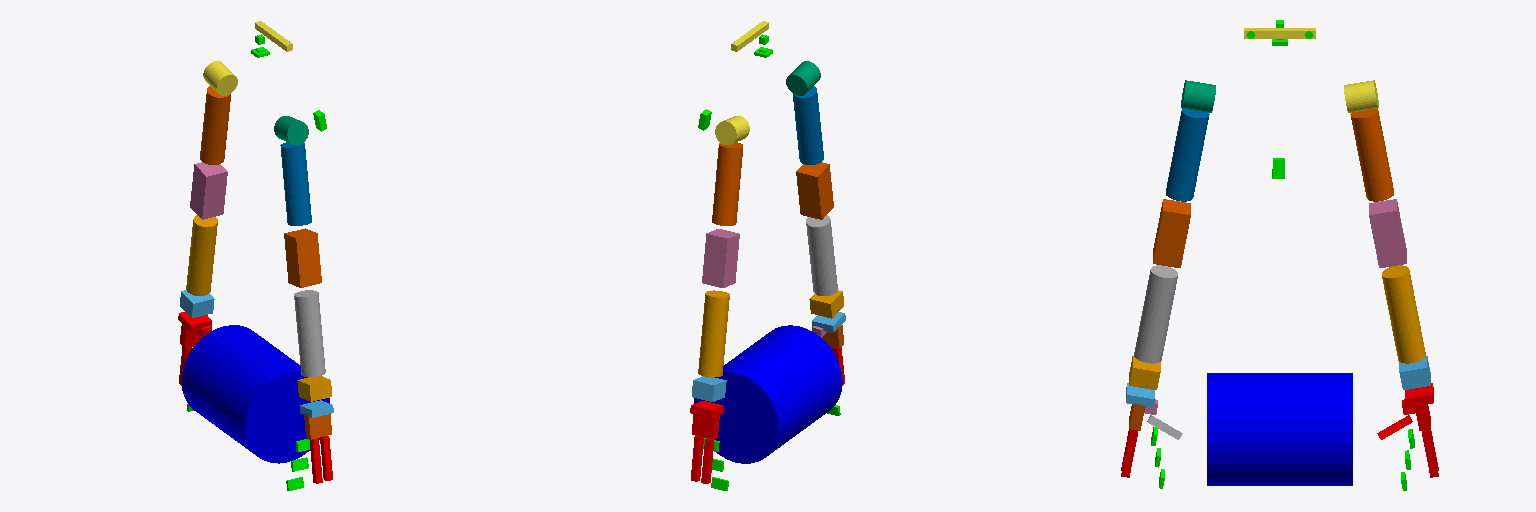
--- Render facts (derived) ---
The picture shows the robot from 3 angles, left to right: view 1: azimuth 30°, elevation 25°; view 2: azimuth 150°, elevation 25°; view 3: azimuth 270°, elevation 25°; orthographic projection.
Model flintrobot with 51 links and 50 joints (19 revolute, 2 prismatic, 29 fixed), rooted at base_link, posed every joint at zero.
Visible links, largest first — view 1: base_link, right_forearm, right_posterior_arm, left_forearm, right_elbow, left_posterior_arm, left_elbow, left_shoulder, right_shoulder, right_forearm_b, left_forearm_b, right_hand; view 2: base_link, left_forearm, left_posterior_arm, right_forearm, left_elbow, right_posterior_arm, right_elbow, right_shoulder, left_shoulder, left_forearm_b, right_forearm_b, left_hand; view 3: base_link, right_forearm, left_forearm, right_posterior_arm, left_posterior_arm, right_elbow, left_elbow, right_shoulder, left_shoulder, right_forearm_b, left_forearm_b, camera_base.
Link boxes in pixels (x1,y1,x2,y2): base_link: (181, 325, 329, 463); right_forearm: (294, 290, 325, 376); right_posterior_arm: (280, 142, 311, 225); left_forearm: (186, 215, 217, 295); right_elbow: (284, 228, 321, 287); left_posterior_arm: (200, 86, 230, 164); left_elbow: (190, 162, 227, 219); left_shoulder: (203, 61, 237, 95); right_shoulder: (274, 116, 308, 144); right_forearm_b: (297, 376, 331, 401); left_forearm_b: (180, 290, 214, 317); right_hand: (304, 414, 331, 439); base_link: (694, 325, 842, 463); left_forearm: (698, 290, 729, 377); left_posterior_arm: (712, 142, 742, 225); right_forearm: (806, 215, 837, 295); left_elbow: (702, 229, 739, 287); right_posterior_arm: (793, 86, 823, 164); right_elbow: (796, 162, 833, 219); right_shoulder: (786, 61, 820, 95); left_shoulder: (715, 116, 749, 144); left_forearm_b: (692, 376, 726, 401); right_forearm_b: (809, 290, 843, 318); left_hand: (692, 414, 719, 439); base_link: (1207, 373, 1352, 485); right_forearm: (1134, 265, 1177, 363); left_forearm: (1382, 265, 1425, 363); right_posterior_arm: (1166, 108, 1209, 201); left_posterior_arm: (1350, 108, 1393, 201); right_elbow: (1153, 199, 1190, 267); left_elbow: (1369, 199, 1406, 267); right_shoulder: (1181, 80, 1215, 112); left_shoulder: (1344, 80, 1378, 112); right_forearm_b: (1129, 356, 1160, 389); left_forearm_b: (1399, 356, 1430, 389); camera_base: (1244, 28, 1315, 38).
Bounding box of the posed robot: 0.3625 × 0.7817 × 1.28 m (x, y, z).
Geometry: primitives only (box / cylinder / sphere), no mesh files.

The robot description file, URDF, robot "flintrobot":
<?xml version="1.0"?>
<robot name="flintrobot"> 
  <link name="base_link">
    <visual>
      <geometry>
        <cylinder length="0.36" radius="0.14"/>
      </geometry>
      <material name="blue">
        <color rgba="0.0 0.0 1.0 0.5"/>
      </material>
      <origin rpy="1.57075 0 0" xyz="0 0 0.12"/>
    </visual>
    <collision>
      <geometry>
        <cylinder length="0.36" radius="0.14"/>
      </geometry>
      <origin rpy="1.57075 0 0" xyz="0 0 0.15"/>
    </collision>
  </link>      

  <link name="body_link">
    <!-- <visual>
      <geometry>
        <cylinder length="0.95" radius="0.15"/>
      </geometry>
      <material name="blue">
        <color rgba="0.0 0.0 1.0 0.5"/>
      </material>
      <origin rpy="0 0 0" xyz="0 0 0.625"/>
    </visual> -->
    <collision>
      <geometry>
        <cylinder length="0.95" radius="0.15"/>
      </geometry>
      <origin rpy="0 0 0" xyz="0 0 0.625"/>
    </collision>
  </link>

  <link name="imu_link">
    <visual>
      <geometry>
        <box size="0.03 0.02 0.002"/>
      </geometry>
      <material name="green">
        <color rgba="0.0 1.0 0.0 1.0"/>
      </material>
      <origin rpy="0 0 1.5708" xyz="0 0 0"/>
    </visual>
  </link>

  <joint name="robot_roll_angle" type="fixed">
    <axis xyz="0 1 0"/>
    <origin xyz="0 0 0.12"/>
    <parent link="base_link"/>
    <child link="body_link"/>
    <limit effort="1000" lower="-0.2618" upper="0.2618" velocity="1.0"/>
  </joint>

  <joint name="imu_to_body" type="fixed">
    <axis xyz="1 0 0"/>
    <origin xyz="0 0 0.06"/>
    <parent link="body_link"/>
    <child link="imu_link"/>
  </joint>

  <link name="rslidar">
    <visual>
      <geometry>
        <box size="0.02 0.03 0.05"/>
      </geometry>
      <material name="green">
        <color rgba="0.0 1.0 0.0 1.0"/>
      </material>
      <origin rpy="0 0 0" xyz="0 0 0"/>
    </visual>
  </link>

  <!-- <joint name="laser_to_body" type="fixed">
    <origin xyz="0.15475 0 0.67791"/>
    <parent link="body_link"/>
    <child link="laser_link"/>
  </joint> -->

  <link name="head_base_root"/>

  <joint name="head_base_root_joint" type="fixed">
    <origin rpy="0 0 0" xyz="0.01385 0 1.064"/>
    <parent link="body_link"/>
    <child link="head_base_root"/>
  </joint>

  <link name="head_base_raise_joint_x"/>

  <joint name="head_base_raise_joint_x" type="prismatic">
    <origin rpy="0 0 0" xyz="0 0 0"/>
    <axis xyz="1 0 0"/>
    <limit effort="1000" lower="0.0" upper="0.07044" velocity="0.1"/>
    <parent link="head_base_root"/>
    <child link="head_base_raise_joint_x"/>
  </joint>

  <link name="head_base_raise_joint_z"/>

  <joint name="head_base_raise_joint_z" type="prismatic">
    <origin rpy="0 0 0" xyz="0 0 0"/>
    <axis xyz="0 0 1"/>
    <limit effort="1000" lower="0.0" upper="0.03792" velocity="0.1"/>
    <parent link="head_base_raise_joint_x"/>
    <child link="head_base_raise_joint_z"/>
  </joint>

  <link name="head_base_raise_joint_pitch">
    <visual>
      <geometry>
        <box size="0.04 0.04 0.01"/>
      </geometry>
      <material name="green">
        <color rgba="0.0 1.0 0.0 1.0"/>
      </material>
      <origin rpy="0 0 0" xyz="0 0 0"/>
    </visual>
  </link>

  <joint name="head_base_raise_joint_pitch" type="revolute">
    <origin rpy="0 0 0" xyz="0 0 0"/>
    <axis xyz="0 1 0"/>
    <limit effort="1000" lower="0.0" upper="0.449946" velocity="0.1"/>
    <parent link="head_base_raise_joint_z"/>
    <child link="head_base_raise_joint_pitch"/>
  </joint>

  <link name="head_joint_1">
    <visual>
      <geometry>
        <box size="0.02 0.02 0.02"/>
      </geometry>
      <material name="green">
        <color rgba="0.0 1.0 0.0 1.0"/>
      </material>
      <origin rpy="0 0 0" xyz="0 0 0"/>
    </visual>
  </link>

  <joint name="head_joint_1" type="revolute">
    <origin rpy="0 0 0" xyz="0 0 0"/>
    <axis xyz="0 0 1"/>
    <limit effort="1000" lower="-0.7854" upper="0.7854" velocity="0.1"/>
    <parent link="head_base_raise_joint_pitch"/>
    <child link="head_joint_1"/>
  </joint>

  <link name="head_joint_2">
    <visual>
      <geometry>
        <box size="0.02 0.02 0.02"/>
      </geometry>
      <material name="green">
        <color rgba="0.0 1.0 0.0 1.0"/>
      </material>
      <origin rpy="0 0 0" xyz="0 0 0"/>
    </visual>
  </link>

  <joint name="head_joint_2" type="revolute">
    <origin rpy="0 0 0" xyz="0 0 0.04"/>
    <axis xyz="0 1 0"/>
    <limit effort="1000" lower="-0.3491" upper="0.00854" velocity="0.1"/>
    <parent link="head_joint_1"/>
    <child link="head_joint_2"/>
  </joint>

  <joint name="head_joint_3" type="revolute">
    <origin rpy="0 0 0" xyz="0.04445 0 0"/>
    <axis xyz="1 0 0"/>
    <limit effort="1000" lower="-0.3491" upper="0.3491" velocity="0.1"/>
    <parent link="head_joint_2"/>
    <child link="camera_base_loc"/>
  </joint>

  <link name="camera_base_loc"/>

  <joint name="head_joint_3b" type="fixed">
    <origin rpy="0 -0.1118756 0" xyz="0 0 0"/>
    <parent link="camera_base_loc"/>
    <child link="camera_base"/>
  </joint>

  <link name="camera_base">
    <visual>
      <geometry>
        <box size="0.02 0.18 0.02"/>
      </geometry>
      <origin rpy="0 0 0" xyz="0 0 0"/>
    </visual>
  </link>

  <link name="left_eye">
    <visual>
      <geometry>
        <cylinder length="0.02" radius="0.01"/>
      </geometry>
      <material name="green">
        <color rgba="0.0 1.0 0.0 1.0"/>
      </material>
      <origin rpy="0 1.5708 0" xyz="0.002 0.0 0.0"/>
    </visual>
  </link>

  <joint name="head_to_left_eye" type="fixed">
    <origin rpy="0 0 0" xyz="0.0 0.07103 0.0"/>
    <parent link="camera_base"/>
    <child link="left_eye"/>
  </joint>

  <link name="left_camera_optical_frame"/>
  <joint name="left_camera_optical_joint" type="fixed">
    <origin rpy="-1.5707963267948966 0.0 -1.5707963267948966" xyz="0 0 0"/>
    <parent link="left_eye"/>
    <child link="left_camera_optical_frame"/>
  </joint>

  <!-- New link to connect left_camera_optical_frame and laser_link -->
  <link name="laser_link_camera_frame"/>

  <joint name="left_camera_to_laser_camera_joint" type="fixed">
    <!-- <origin rpy="-0.0743 -1.5708 1.5708" xyz="0.0744262 0.312105 0.115497"/> -->
    <origin rpy="-3.0673057 -1.4927255 -1.6530373" xyz="0.0744262 0.312105 0.115497"/>
    <parent link="left_camera_optical_frame"/>
    <child link="laser_link_camera_frame"/>
  </joint>

  <!-- Joint connecting laser_link_camera_frame to laser_link -->
  <joint name="laser_camera_to_laser_joint" type="fixed">
    <origin rpy="0 0 0" xyz="0 0 0"/>
    <parent link="laser_link_camera_frame"/>
    <child link="rslidar"/>
  </joint>

  <link name="right_eye">
    <visual>
      <geometry>
        <cylinder length="0.02" radius="0.01"/>
      </geometry>
      <material name="green">
        <color rgba="0.0 1.0 0.0 1.0"/>
      </material>
      <origin rpy="0 1.5708 0" xyz="0.002 0.0 0.0"/>
    </visual>
  </link>

  <joint name="head_to_right_eye" type="fixed">
    <origin rpy="0 0 0" xyz="0.0 -0.07103 0.0"/>
    <parent link="camera_base"/>
    <child link="right_eye"/>
  </joint>

  <link name="right_camera_optical_frame"/>
  <joint name="right_camera_optical_joint" type="fixed">
    <origin rpy="-1.5707963267948966 0.0 -1.5707963267948966" xyz="0 0 0"/>
    <parent link="right_eye"/>
    <child link="right_camera_optical_frame"/>
  </joint>

  <link name="right_shoulder_root"/>

  <joint name="right_shoulder_fixed_angle" type="fixed">
    <origin rpy="-0.17453 0 0" xyz="0 -0.116 0.89"/>
    <parent link="body_link"/>
    <child link="right_shoulder_root"/>
  </joint>

  <link name="right_shoulder">
    <visual>
      <geometry>
        <cylinder length="0.076" radius="0.035"/>
      </geometry>
      <origin rpy="1.57075 0 0" xyz="0 0 0"/>
    </visual>
    <collision>
      <geometry>
        <cylinder length="0.076" radius="0.035"/>
      </geometry>
      <origin rpy="1.57075 0 0" xyz="0 0 0"/>
    </collision>
  </link>

  <joint name="joint0" type="revolute">
    <axis xyz="0 1 0"/>
    <origin xyz="0 -0.086 0"/>
    <parent link="right_shoulder_root"/>
    <child link="right_shoulder"/>
    <limit effort="1000" lower="-3.1415926" upper="3.1415926" velocity="1.0"/>
  </joint>

  <link name="right_posterior_arm_root">
  </link>

  <joint name="joint1" type="revolute">
    <axis xyz="1 0 0"/>
    <origin xyz="0 0 0"/>
    <parent link="right_shoulder"/>
    <child link="right_posterior_arm_root"/>
    <limit effort="1000" lower="-1.5708" upper="0.1745" velocity="1.0"/>
  </joint>

  <link name="right_posterior_arm">
    <visual>
      <geometry>
        <cylinder length="0.23" radius="0.035"/>
      </geometry>
      <origin rpy="0 0 0" xyz="0 0 -0.0725"/>
    </visual>
    <collision>
      <geometry>
        <cylinder length="0.23" radius="0.035"/>
      </geometry>
      <origin rpy="0 0 0" xyz="0 0 -0.0725"/>
    </collision>
  </link>

  <joint name="joint2" type="revolute">
    <axis xyz="0 0 1"/>
    <origin xyz="0 0 -0.085"/>
    <parent link="right_posterior_arm_root"/>
    <child link="right_posterior_arm"/>
    <limit effort="1000" lower="-3.1415926" upper="3.1415926" velocity="1.0"/>
  </joint>

  <link name="right_elbow">
    <visual>
      <geometry>
        <box size="0.07 0.07 0.147"/>
      </geometry>
      <origin rpy="0 0 0" xyz="0 0 -0.0735"/>
    </visual>
    <collision>
      <geometry>
        <box size="0.07 0.07 0.147"/>
      </geometry>
      <origin rpy="0 0 0" xyz="0 0 -0.0735"/>
    </collision>
  </link>

  <joint name="joint3" type="revolute">
    <axis xyz="0 1 0"/>
    <origin xyz="0 0 -0.22"/>
    <parent link="right_posterior_arm"/>
    <child link="right_elbow"/>
    <limit effort="1000" lower="-1.5708" upper="0.0" velocity="1.0"/>
  </joint>

  <link name="right_forearm_root">
  </link>

  <joint name="joint4" type="revolute">
    <axis xyz="0 1 0"/>
    <origin xyz="0 0 -0.147"/>
    <parent link="right_elbow"/>
    <child link="right_forearm_root"/>
    <limit effort="1000" lower="-1.5708" upper="0.0" velocity="1.0"/>
  </joint>

  <link name="right_forearm">
    <visual>
      <geometry>
        <cylinder length="0.236" radius="0.035"/>
      </geometry>
      <origin rpy="0 0 0" xyz="0 0 -0.033"/>
    </visual>
    <collision>
      <geometry>
        <cylinder length="0.236" radius="0.035"/>
      </geometry>
      <origin rpy="0 0 0" xyz="0 0 -0.033"/>
    </collision>
  </link>

  <joint name="joint5" type="revolute">
    <axis xyz="0 0 1"/>
    <origin xyz="0 0 -0.11678"/>
    <parent link="right_forearm_root"/>
    <child link="right_forearm"/>
    <limit effort="1000" lower="-3.1415926" upper="3.1415926" velocity="1.0"/>
  </joint>

  <link name="right_forearm_b">
    <visual>
      <geometry>
        <box size="0.07 0.07 0.05"/>
      </geometry>
      <origin rpy="0 0 0" xyz="0 0 0.005"/>
    </visual>
    <collision>
      <geometry>
        <box size="0.07 0.07 0.05"/>
      </geometry>
      <origin rpy="0 0 0" xyz="0 0 0.005"/>
    </collision>
  </link>

  <joint name="joint6" type="revolute">
    <axis xyz="0 1 0"/>
    <origin xyz="0 0 -0.2"/>
    <parent link="right_forearm"/>
    <child link="right_forearm_b"/>
    <limit effort="1000" lower="-0.5236" upper="0.5236" velocity="1.0"/>
  </joint>

  <link name="right_wrist">
    <visual>
      <geometry>
        <box size="0.07 0.07 0.023"/>
      </geometry>
      <origin rpy="0 0 0" xyz="0 0 -0.0115"/>
    </visual>
    <collision>
      <geometry>
        <box size="0.07 0.07 0.023"/>
      </geometry>
      <origin rpy="0 0 0" xyz="0 0 -0.0115"/>
    </collision>
  </link>

  <joint name="joint7" type="revolute">
    <axis xyz="1 0 0"/>
    <origin xyz="0 0 -0.04472"/>
    <parent link="right_forearm_b"/>
    <child link="right_wrist"/>
    <limit effort="1000" lower="-0.7854" upper="0.7854" velocity="1.0"/>
  </joint>

  <link name="right_grasp_center">
    <visual>
      <geometry>
        <box size="0.03 0.01 0.05"/>
      </geometry>
      <material name="green">
        <color rgba="0.0 1.0 0.0 1.0"/>
      </material>
      <origin rpy="0 0 0" xyz="0 0 0"/>
    </visual>
  </link>

  <joint name="right_wrists_to_grasp_center" type="fixed">
    <parent link="right_wrist"/>
    <child link="right_grasp_center"/>
    <origin rpy="0 1.5708 0" xyz="-0.02 0.055 -0.125"/>
  </joint>

  <link name="right_grasp_prepare_2">
    <visual>
      <geometry>
        <box size="0.03 0.01 0.05"/>
      </geometry>
      <material name="green">
        <color rgba="0.0 1.0 0.0 1.0"/>
      </material>
      <origin rpy="0 0 0" xyz="0 0 0"/>
    </visual>
  </link>

  <joint name="right_grasp_center_to_grasp_prepare_2" type="fixed">
    <parent link="right_grasp_center"/>
    <child link="right_grasp_prepare_2"/>
    <origin rpy="0 0 0" xyz="0.06 0.02 -0.01"/>
  </joint>

  <link name="right_grasp_prepare">
    <visual>
      <geometry>
        <box size="0.03 0.01 0.05"/>
      </geometry>
      <material name="green">
        <color rgba="0.0 1.0 0.0 1.0"/>
      </material>
      <origin rpy="0 0 0" xyz="0 0 0"/>
    </visual>
  </link>

  <joint name="right_grasp_center_to_grasp_prepare" type="fixed">
    <parent link="right_grasp_center"/>
    <child link="right_grasp_prepare"/>
    <origin rpy="0 0 0" xyz="0.12 0.04 -0.02"/>
  </joint>

  <link name="right_hand">
    <visual>
      <geometry>
        <box size="0.07 0.028 0.072"/>
      </geometry>
      <origin rpy="0 0 0" xyz="0 0 -0.055"/>
    </visual>
    <collision>
      <geometry>
        <box size="0.07 0.028 0.072"/>
      </geometry>
      <origin rpy="0 0 0" xyz="0 0 -0.055"/>
    </collision>
  </link>

  <joint name="wrist_to_hand" type="fixed">
    <parent link="right_wrist"/>
    <child link="right_hand"/>
  </joint>

  <link name="right_hand2">
    <visual>
      <geometry>
        <box size="0.03 0.03 0.03"/>
      </geometry>
      <origin rpy="0 -0.087 0" xyz="0.016 0.03 -0.03"/>
    </visual>
    <collision>
      <geometry>
        <box size="0.03 0.03 0.03"/>
      </geometry>
      <origin rpy="0 -0.087 0" xyz="0.016 0.03 -0.03"/>
    </collision>
  </link>

  <joint name="wrist_to_hand2" type="fixed">
    <parent link="right_wrist"/>
    <child link="right_hand2"/>
    <origin rpy="0 0 0" xyz="0 0 0"/>
  </joint>

  <link name="right_finger1">
    <visual>
      <geometry>
        <box size="0.02 0.09 0.02"/>
      </geometry>
      <origin rpy="-0.72558 1.04635 -0.797603" xyz="0.028 0.072 -0.075"/>
    </visual>
    <collision>
      <geometry>
        <box size="0.02 0.09 0.02"/>
      </geometry>
      <origin rpy="-0.72558 1.04635 -0.797603" xyz="0.028 0.072 -0.075"/>
    </collision>
  </link>

  <joint name="wrists_to_finger1" type="fixed">
    <parent link="right_wrist"/>
    <child link="right_finger1"/>
    <origin rpy="0 0 0" xyz="0 0 0"/>
  </joint>

  <link name="right_finger2">
    <visual>
      <geometry>
        <box size="0.02 0.02 0.13"/>
      </geometry>
      <material name="red">
        <color rgba="1.0 0.0 0.0 0.5"/>
      </material>
      <origin rpy="0 0 0" xyz="0.017 0 -0.16"/>
    </visual>
    <collision>
      <geometry>
        <box size="0.02 0.02 0.13"/>
      </geometry>
      <origin rpy="0 0 0" xyz="0.017 0 -0.16"/>
    </collision>
  </link>

  <joint name="wrists_to_finger2" type="fixed">
    <parent link="right_wrist"/>
    <child link="right_finger2"/>
    <origin rpy="0 0 0" xyz="0 0 0"/>
  </joint>

  <link name="right_finger3">
    <visual>
      <geometry>
        <box size="0.02 0.02 0.13"/>
      </geometry>
      <material name="red">
        <color rgba="1.0 0.0 0.0 0.5"/>
      </material>
      <origin rpy="0 0 0" xyz="-0.017 0 -0.16"/>
    </visual>
    <collision>
      <geometry>
        <box size="0.02 0.02 0.13"/>
      </geometry>
      <origin rpy="0 0 0" xyz="-0.017 0 -0.16"/>
    </collision>
  </link>

  <joint name="wrists_to_finger3" type="fixed">
    <parent link="right_wrist"/>
    <child link="right_finger3"/>
    <origin rpy="0 0 0" xyz="0 0 0"/>
  </joint>

  <link name="left_shoulder_root">
  </link>

  <joint name="left_shoulder_fixed_angle" type="fixed">
    <origin rpy="0.17453 0 0" xyz="0 0.116 0.89"/>
    <parent link="body_link"/>
    <child link="left_shoulder_root"/>
  </joint>

  <link name="left_shoulder">
    <visual>
      <geometry>
        <cylinder length="0.076" radius="0.035"/>
      </geometry>
      <origin rpy="1.57075 0 0" xyz="0 0 0"/>
    </visual>
    <collision>
      <geometry>
        <cylinder length="0.076" radius="0.035"/>
      </geometry>
      <origin rpy="1.57075 0 0" xyz="0 0 0"/>
    </collision>
  </link>

  <joint name="joint0b" type="revolute">
    <axis xyz="0 1 0"/>
    <origin xyz="0 0.086 0"/>
    <parent link="left_shoulder_root"/>
    <child link="left_shoulder"/>
    <limit effort="1000" lower="-3.1415926" upper="3.1415926" velocity="1.0"/>
  </joint>

  <link name="left_posterior_arm_root">
  </link>

  <joint name="joint1b" type="revolute">
    <axis xyz="1 0 0"/>
    <origin xyz="0 0 0"/>
    <parent link="left_shoulder"/>
    <child link="left_posterior_arm_root"/>
    <limit effort="1000" lower="-0.1745" upper="1.5708" velocity="1.0"/>
  </joint>

  <link name="left_posterior_arm">
    <visual>
      <geometry>
        <cylinder length="0.23" radius="0.035"/>
      </geometry>
      <origin rpy="0 0 0" xyz="0 0 -0.0725"/>
    </visual>
    <collision>
      <geometry>
        <cylinder length="0.23" radius="0.035"/>
      </geometry>
      <origin rpy="0 0 0" xyz="0 0 -0.0725"/>
    </collision>
  </link>

  <joint name="joint2b" type="revolute">
    <axis xyz="0 0 1"/>
    <origin xyz="0 0 -0.085"/>
    <parent link="left_posterior_arm_root"/>
    <child link="left_posterior_arm"/>
    <limit effort="1000" lower="-3.1415926" upper="3.1415926" velocity="1.0"/>
  </joint>

  <link name="left_elbow">
    <visual>
      <geometry>
        <box size="0.07 0.07 0.147"/>
      </geometry>
      <origin rpy="0 0 0" xyz="0 0 -0.0735"/>
    </visual>
    <collision>
      <geometry>
        <box size="0.07 0.07 0.147"/>
      </geometry>
      <origin rpy="0 0 0" xyz="0 0 -0.0735"/>
    </collision>
  </link>

  <joint name="joint3b" type="revolute">
    <axis xyz="0 1 0"/>
    <origin xyz="0 0 -0.22"/>
    <parent link="left_posterior_arm"/>
    <child link="left_elbow"/>
    <limit effort="1000" lower="-1.5708" upper="0.0" velocity="1.0"/>
  </joint>

  <link name="left_forearm_root">
  </link>

  <joint name="joint4b" type="revolute">
    <axis xyz="0 1 0"/>
    <origin xyz="0 0 -0.147"/>
    <parent link="left_elbow"/>
    <child link="left_forearm_root"/>
    <limit effort="1000" lower="-1.5708" upper="0.0" velocity="1.0"/>
  </joint>

  <link name="left_forearm">
    <visual>
      <geometry>
        <cylinder length="0.236" radius="0.035"/>
      </geometry>
      <origin rpy="0 0 0" xyz="0 0 -0.033"/>
    </visual>
    <collision>
      <geometry>
        <cylinder length="0.236" radius="0.035"/>
      </geometry>
      <origin rpy="0 0 0" xyz="0 0 -0.033"/>
    </collision>
  </link>

  <joint name="joint5b" type="revolute">
    <axis xyz="0 0 1"/>
    <origin xyz="0 0 -0.11678"/>
    <parent link="left_forearm_root"/>
    <child link="left_forearm"/>
    <limit effort="1000" lower="-3.1415926" upper="3.1415926" velocity="1.0"/>
  </joint>

  <link name="left_forearm_b">
    <visual>
      <geometry>
        <box size="0.07 0.07 0.05"/>
      </geometry>
      <origin rpy="0 0 0" xyz="0 0 0.005"/>
    </visual>
    <collision>
      <geometry>
        <box size="0.07 0.07 0.05"/>
      </geometry>
      <origin rpy="0 0 0" xyz="0 0 0.005"/>
    </collision>
  </link>

  <joint name="joint6b" type="fixed">
    <axis xyz="0 1 0"/>
    <origin xyz="0 0 -0.2"/>
    <parent link="left_forearm"/>
    <child link="left_forearm_b"/>
    <limit effort="1000" lower="-0.5236" upper="0.5236" velocity="1.0"/>
  </joint>

  <link name="left_wrist">
    <visual>
      <geometry>
        <box size="0.07 0.07 0.023"/>
      </geometry>
      <material name="red">
        <color rgba="1.0 0.0 0.0 0.5"/>
      </material>
      <origin rpy="0 0 0" xyz="0 0 -0.0115"/>
    </visual>
    <collision>
      <geometry>
        <box size="0.07 0.07 0.023"/>
      </geometry>
      <origin rpy="0 0 0" xyz="0 0 -0.0115"/>
    </collision>
  </link>

  <joint name="joint7b" type="revolute">
    <axis xyz="1 0 0"/>
    <origin xyz="0 0 -0.04472"/>
    <parent link="left_forearm_b"/>
    <child link="left_wrist"/>
    <limit effort="1000" lower="-0.7854" upper="0.7854" velocity="1.0"/>
  </joint>

  <link name="left_grasp_center">
    <visual>
      <geometry>
        <box size="0.03 0.01 0.05"/>
      </geometry>
      <material name="green">
        <color rgba="0.0 1.0 0.0 1.0"/>
      </material>
      <origin rpy="0 0 0" xyz="0 0 0"/>
    </visual>
  </link>

  <joint name="left_wrists_to_grasp_center" type="fixed">
    <parent link="left_wrist"/>
    <child link="left_grasp_center"/>
    <origin rpy="0 1.5708 0" xyz="0.0 -0.04 -0.125"/>
  </joint>

  <link name="left_grasp_prepare_2">
    <visual>
      <geometry>
        <box size="0.03 0.01 0.05"/>
      </geometry>
      <material name="green">
        <color rgba="0.0 1.0 0.0 1.0"/>
      </material>
      <origin rpy="0 0 0" xyz="0 0 0"/>
    </visual>
  </link>

  <joint name="left_grasp_center_to_grasp_prepare_2" type="fixed">
    <parent link="left_grasp_center"/>
    <child link="left_grasp_prepare_2"/>
    <origin rpy="0 0 0" xyz="0.06 -0.02 -0.01"/>
  </joint>

  <link name="left_grasp_prepare">
    <visual>
      <geometry>
        <box size="0.03 0.01 0.05"/>
      </geometry>
      <material name="green">
        <color rgba="0.0 1.0 0.0 1.0"/>
      </material>
      <origin rpy="0 0 0" xyz="0 0 0"/>
    </visual>
  </link>

  <joint name="left_grasp_center_to_grasp_prepare" type="fixed">
    <parent link="left_grasp_center"/>
    <child link="left_grasp_prepare"/>
    <origin rpy="0 0 0" xyz="0.12 -0.04 -0.02"/>
  </joint>

  <link name="left_hand">
    <visual>
      <geometry>
        <box size="0.07 0.028 0.072"/>
      </geometry>
      <material name="red">
        <color rgba="1.0 0.0 0.0 0.5"/>
      </material>
      <origin rpy="0 0 0" xyz="0 0 -0.055"/>
    </visual>
    <collision>
      <geometry>
        <box size="0.07 0.028 0.072"/>
      </geometry>
      <origin rpy="0 0 0" xyz="0 0 -0.055"/>
    </collision>
  </link>

  <joint name="left_wrist_to_hand" type="fixed">
    <parent link="left_wrist"/>
    <child link="left_hand"/>
  </joint>

  <link name="left_hand2">
    <visual>
      <geometry>
        <box size="0.03 0.03 0.03"/>
      </geometry>
      <material name="red">
        <color rgba="1.0 0.0 0.0 0.5"/>
      </material>
      <origin rpy="0 -0.087 0" xyz="0.016 -0.03 -0.03"/>
    </visual>
    <collision>
      <geometry>
        <box size="0.03 0.03 0.03"/>
      </geometry>
      <origin rpy="0 -0.087 0" xyz="0.016 -0.03 -0.03"/>
    </collision>
  </link>

  <joint name="left_wrist_to_hand2" type="fixed">
    <parent link="left_wrist"/>
    <child link="left_hand2"/>
    <origin rpy="0 0 0" xyz="0 0 0"/>
  </joint>

  <link name="left_finger1">
    <visual>
      <geometry>
        <box size="0.02 0.09 0.02"/>
      </geometry>
      <material name="red">
        <color rgba="1.0 0.0 0.0 0.5"/>
      </material>
      <origin rpy="2.416011 -1.04635 -2.34399" xyz="0.028 -0.072 -0.075"/>
    </visual>
    <collision>
      <geometry>
        <box size="0.02 0.09 0.02"/>
      </geometry>
      <origin rpy="2.416011 -1.04635 -2.34399" xyz="0.028 -0.072 -0.075"/>
    </collision>
  </link>

  <joint name="left_wrists_to_finger1" type="fixed">
    <parent link="left_wrist"/>
    <child link="left_finger1"/>
    <origin rpy="0 0 0" xyz="0 0 0"/>
  </joint>

  <link name="left_finger2">
    <visual>
      <geometry>
        <box size="0.02 0.02 0.13"/>
      </geometry>
      <material name="red">
        <color rgba="1.0 0.0 0.0 0.5"/>
      </material>
      <origin rpy="0 0 0" xyz="0.017 0 -0.16"/>
    </visual>
    <collision>
      <geometry>
        <box size="0.02 0.02 0.13"/>
      </geometry>
      <origin rpy="0 0 0" xyz="0.017 0 -0.16"/>
    </collision>
  </link>

  <joint name="left_wrists_to_finger2" type="fixed">
    <parent link="left_wrist"/>
    <child link="left_finger2"/>
    <origin rpy="0 0 0" xyz="0 0 0"/>
  </joint>

  <link name="left_finger3">
    <visual>
      <geometry>
        <box size="0.02 0.02 0.13"/>
      </geometry>
      <material name="red">
        <color rgba="1.0 0.0 0.0 0.5"/>
      </material>
      <origin rpy="0 0 0" xyz="-0.017 0 -0.16"/>
    </visual>
    <collision>
      <geometry>
        <box size="0.02 0.02 0.13"/>
      </geometry>
      <origin rpy="0 0 0" xyz="-0.017 0 -0.16"/>
    </collision>
  </link>

  <joint name="left_wrists_to_finger3" type="fixed">
    <parent link="left_wrist"/>
    <child link="left_finger3"/>
    <origin rpy="0 0 0" xyz="0 0 0"/>
  </joint>

</robot>
